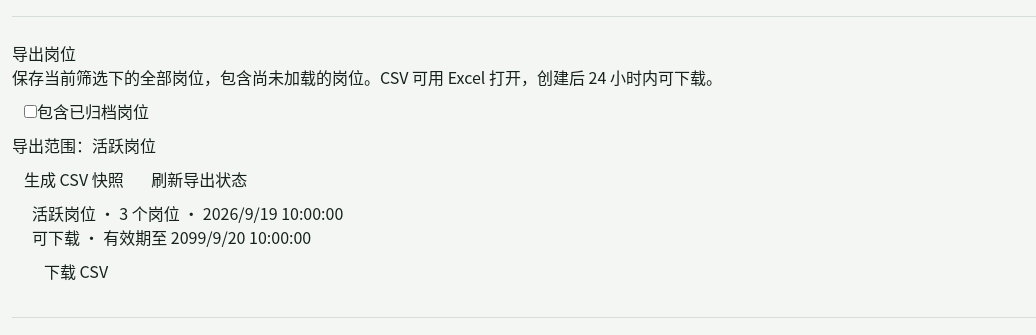
Test: 下载时服务端返回过期后更新可见状态并移除下载动作
Click the button "下载 CSV" at (76, 271), box 32,249 -> 120,293
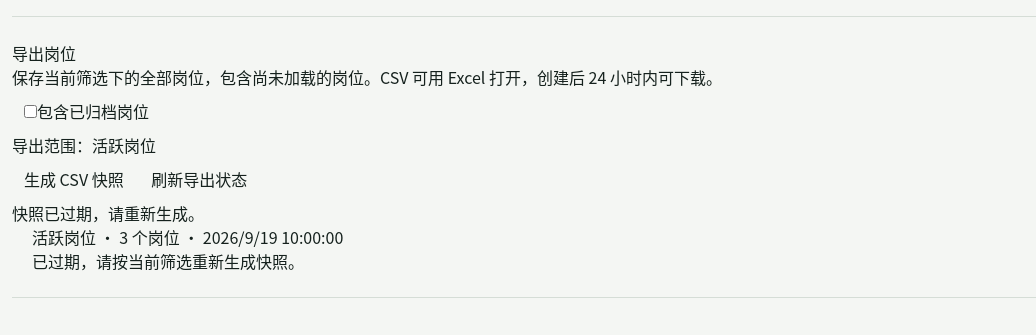
Expected: the button "下载 CSV" is gone
Expected: the text "快照已过期，请重新生成。" is shown, 12,201 -> 204,225
